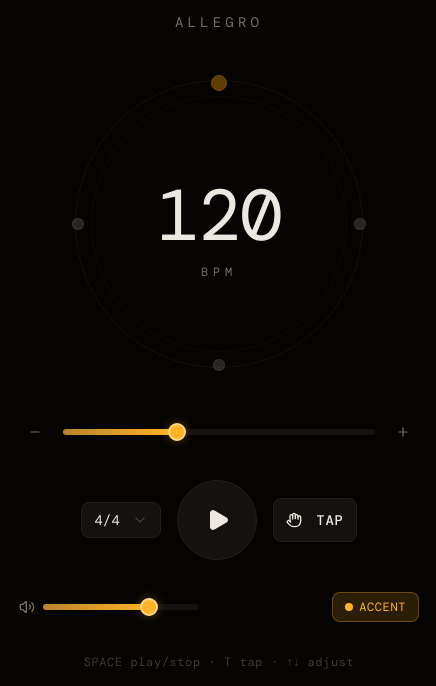
Test case: Metronome component › BPM adjustment buttons › decrease button reduces BPM by 1
Click the button named "decrease bpm": (35, 432) x1=19 y1=416 x2=51 y2=448
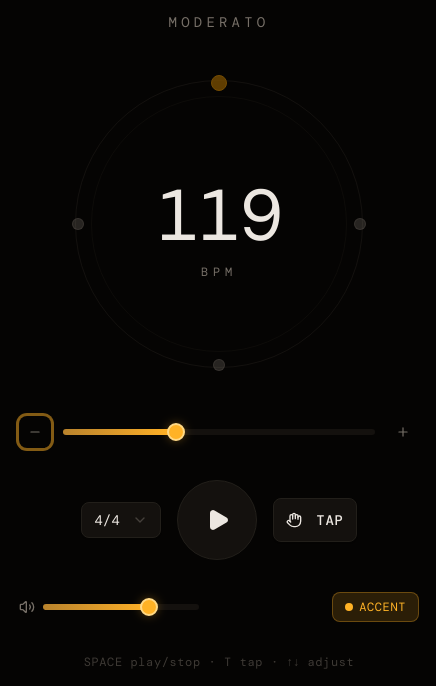
Expected: the field named "bpm" holds "119", x1=147 y1=168 x2=291 y2=262
